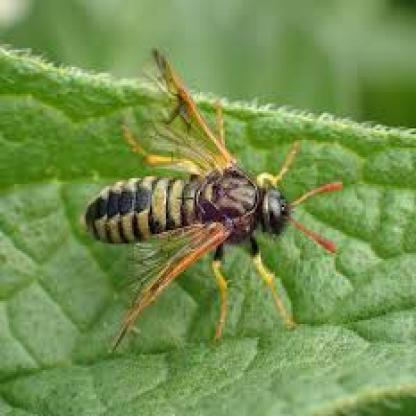sawfly: (84, 44, 347, 353)
